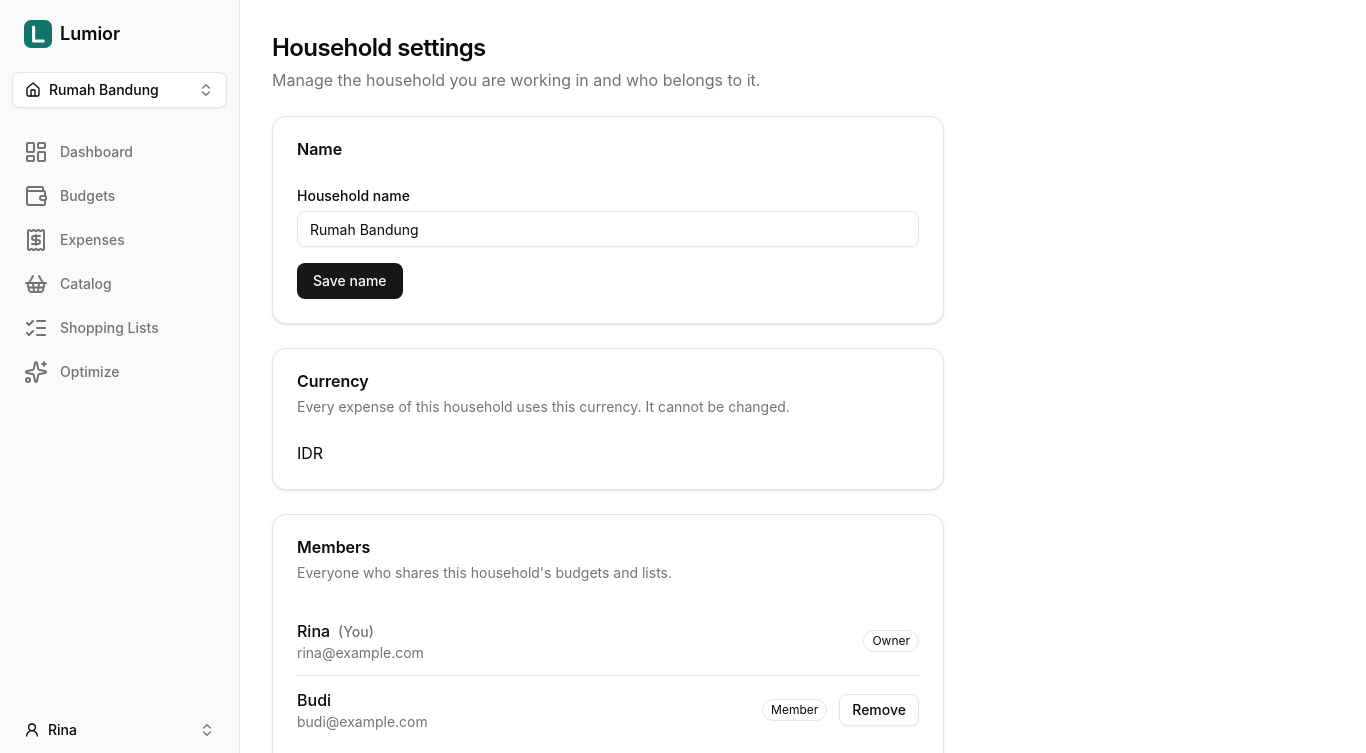
Test: household settings › a refused owner action shows the permission message and reloads members
The width and height of the screenshot is (1366, 753).
Expected: the text "Budi" is shown, [297,690,331,710]
Click the button "Save name": (350, 281) [297,263,402,299]
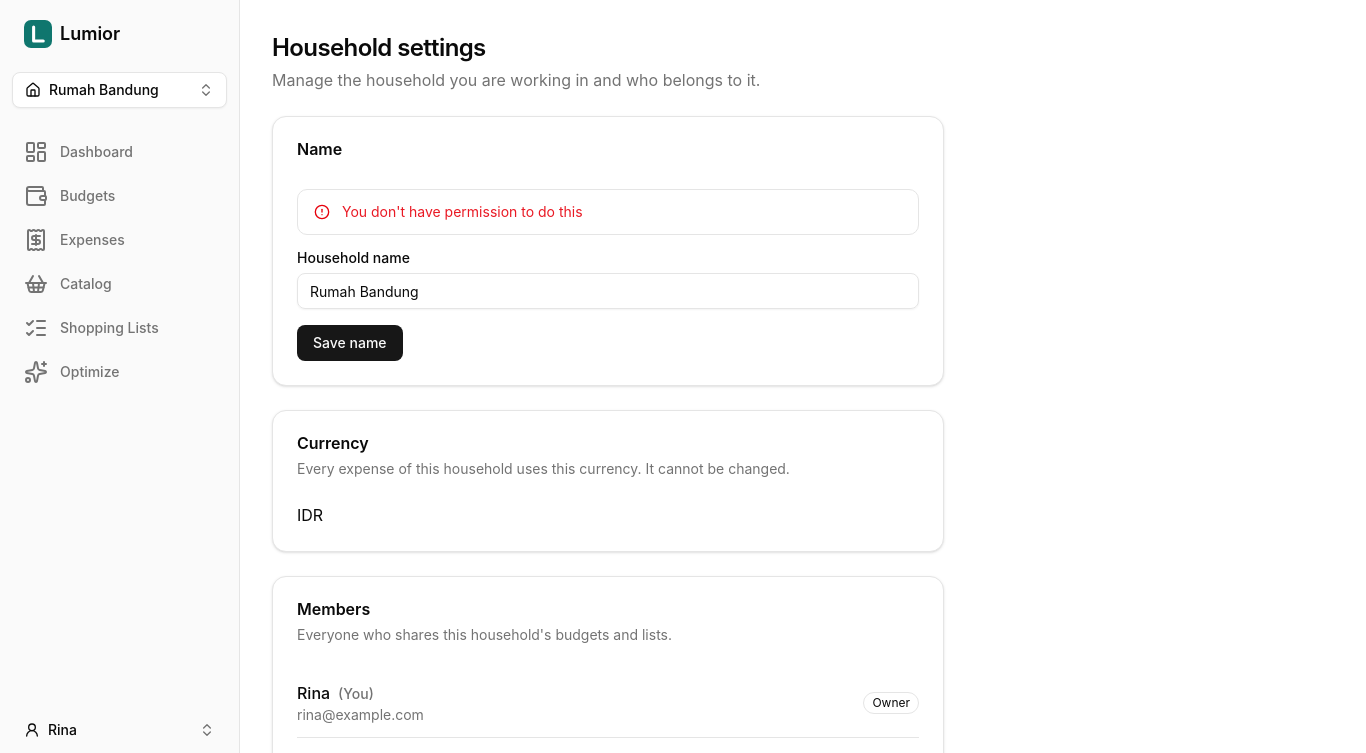
Result: the text "You don't have permission to do this" is shown at [342,203,583,220]
